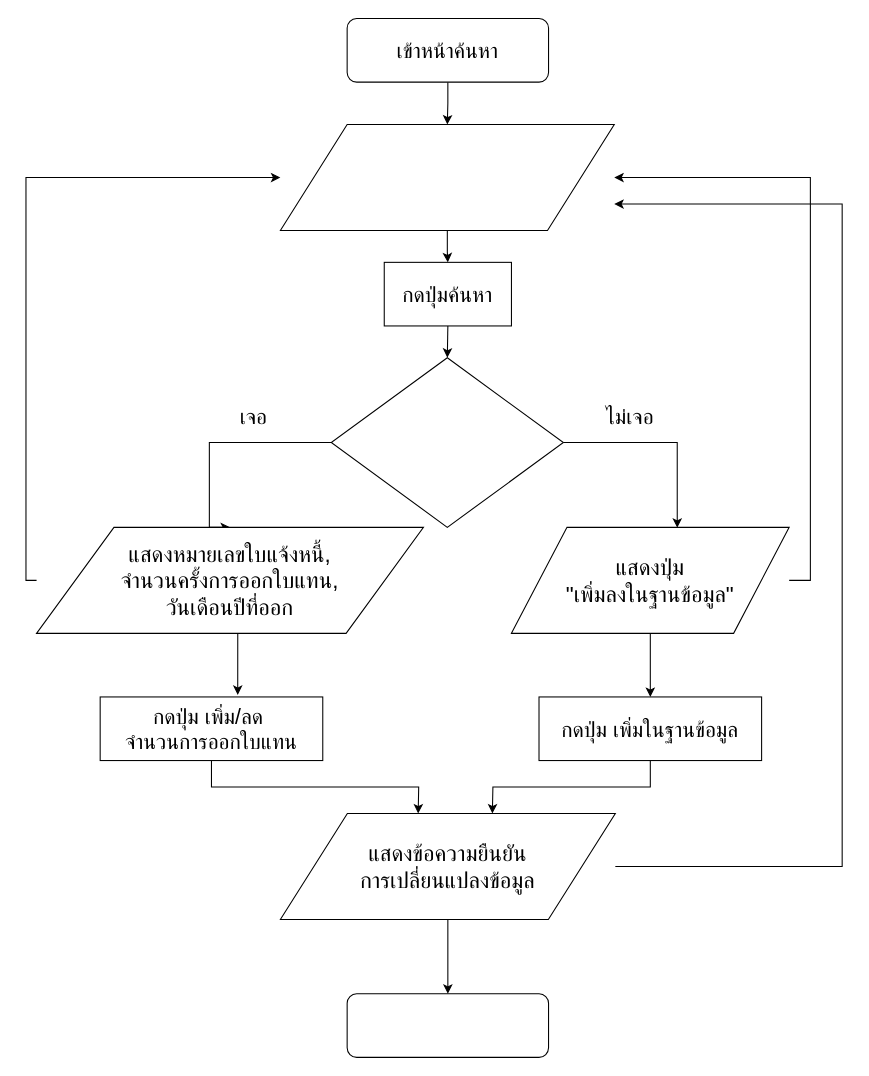
Some shapes in this 869 by 1076 pixel diagram are drawn without their labels. Each missing label, with the centre of its shape:
"กรอกหมายเลขใบแจ้งหนี้ ในช่องค้นหา" belongs at pixel 446 177.
"จบการทำงาน" belongs at pixel 447 1025.
"ได้ผลลัพธ์จาก การค้นหา" belongs at pixel 446 442.
